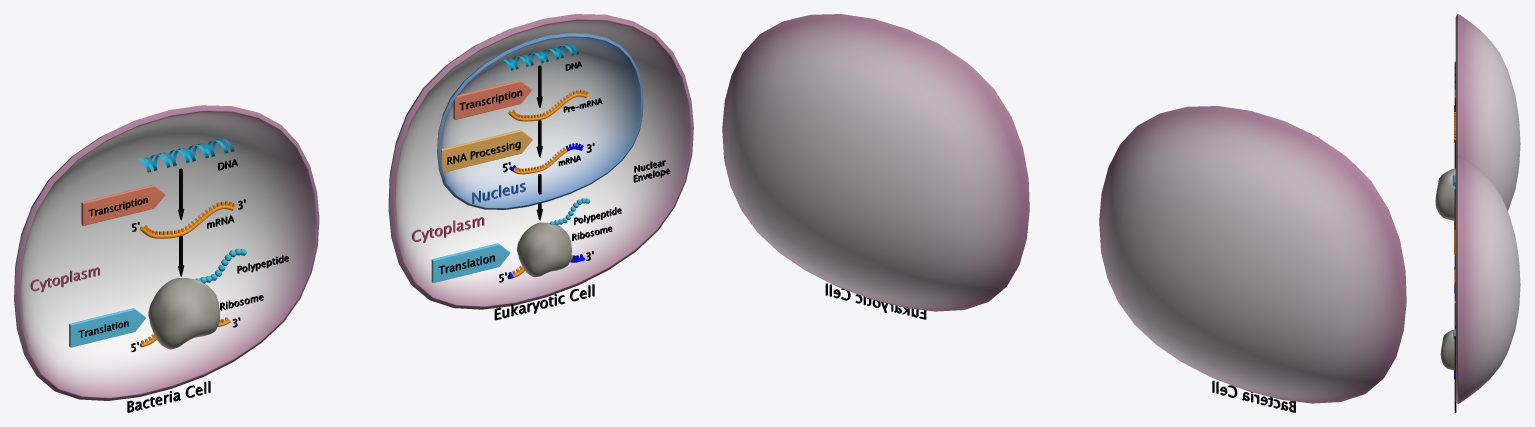
The model's file is Sự điều hòa ở sinh vật nhân sơ và sinh vật nhân chuẩn.glb.
3 views of the same model, side by side, from view 1: azimuth 30°, elevation 25°; view 2: azimuth 150°, elevation 25°; view 3: azimuth 270°, elevation 25° (orthographic). The views are drawn at different scales.
Visible parts, largest first — view 1: pCube66, polySurface84; view 2: pCube66, polySurface84; view 3: pCube66, polySurface84.
Boxes of the visible parts, box(x1,y1,x2,y2) form: pCube66: box(14, 14, 693, 400); polySurface84: box(30, 61, 670, 412); pCube66: box(722, 14, 1406, 403); polySurface84: box(825, 283, 1295, 412); pCube66: box(1435, 14, 1520, 403); polySurface84: box(1454, 62, 1456, 412).
Size of the model in its own units: 0.3283 by 0.1342 by 0.0463.
Materials: 2 (2 with a texture image).
